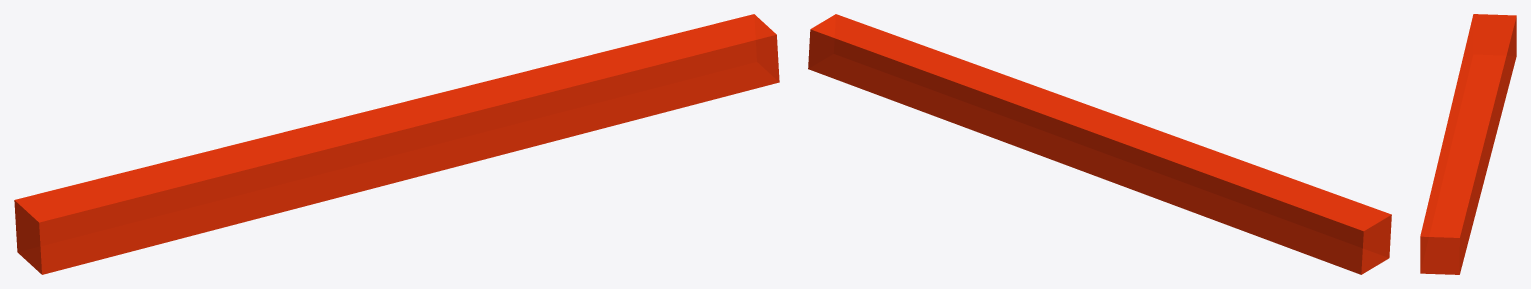
File: Event_421115418_EErechit_40.fbx
3 views of the same model, side by side, from view 1: azimuth 30°, elevation 25°; view 2: azimuth 150°, elevation 25°; view 3: azimuth 270°, elevation 25° (orthographic). The views are drawn at different scales.
Visible parts, largest first — view 1: Model; view 2: Model; view 3: Model.
Boxes of the visible parts, bbox=[...] form: Model: bbox=[14, 14, 779, 274]; Model: bbox=[808, 14, 1391, 274]; Model: bbox=[1420, 14, 1516, 274].
Size of the model in its own units: 1.11 by 0.1438 by 0.1764.
